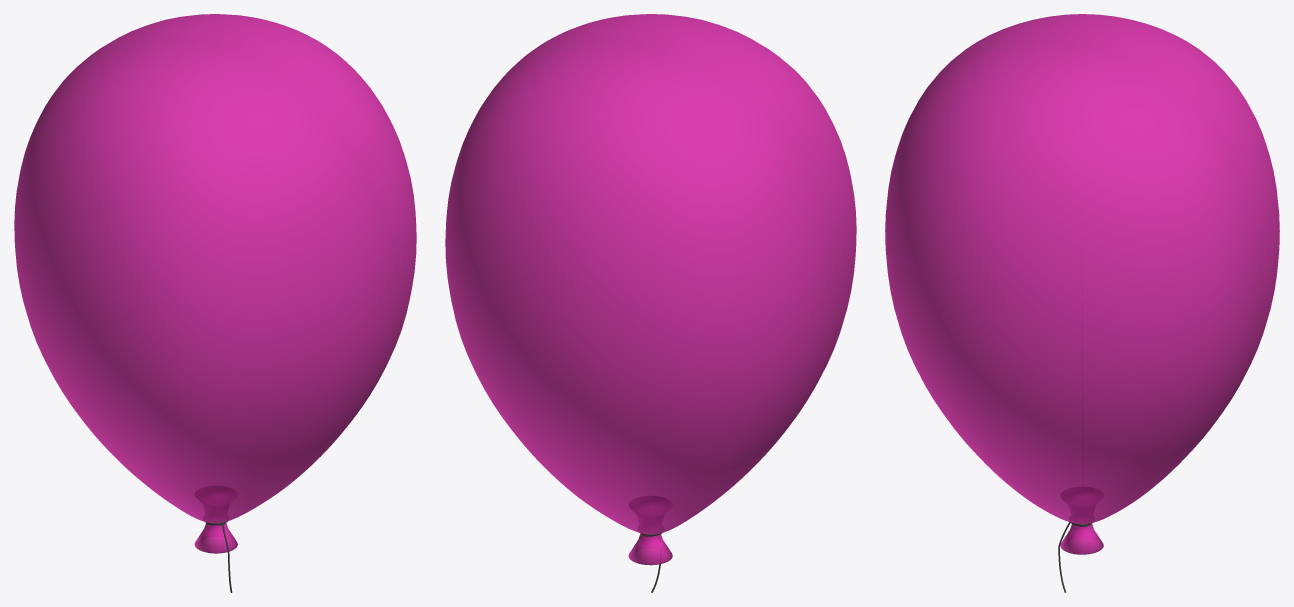
File: ballon_violet.glb
3 views of the same model, side by side, from view 1: azimuth 30°, elevation 25°; view 2: azimuth 150°, elevation 25°; view 3: azimuth 270°, elevation 25° (orthographic). The views are drawn at different scales.
Visible parts, largest first — view 1: Cube.003, Cylinder.006; view 2: Cube.003, Cylinder.006; view 3: Cube.003, Cylinder.006.
Part boxes in pixels (x1,y1,x2,y2): Cube.003: [14, 14, 416, 523]; Cylinder.006: [194, 486, 237, 553]; Cube.003: [445, 14, 856, 534]; Cylinder.006: [628, 496, 672, 565]; Cube.003: [885, 14, 1279, 524]; Cylinder.006: [1060, 487, 1103, 554].
Size of the model in its own units: 71.29 by 110 by 71.29.
